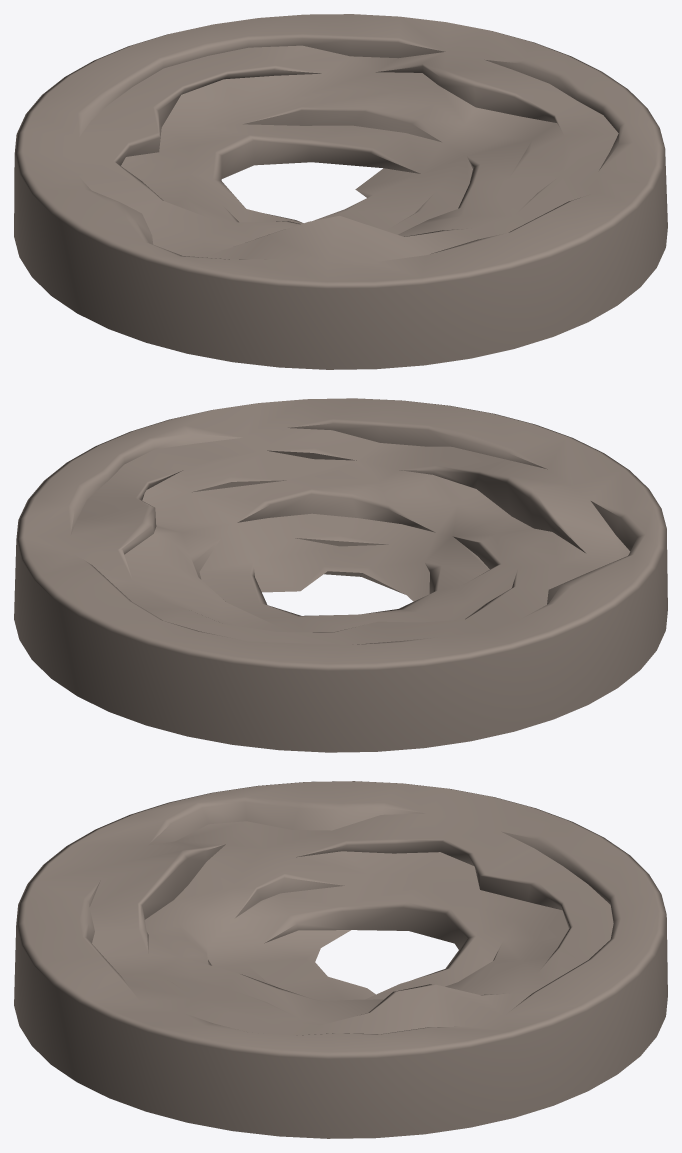
Rendered from terrain_old.fbx.
The picture shows the model from 3 angles, top to bottom: view 1: azimuth 30°, elevation 25°; view 2: azimuth 150°, elevation 25°; view 3: azimuth 270°, elevation 25°; orthographic projection.
Visible parts, largest first — view 1: pDisc1; view 2: pDisc1; view 3: pDisc1.
Part boxes in pixels (x1,y1,x2,y2): pDisc1: [14, 14, 667, 369]; pDisc1: [14, 398, 667, 752]; pDisc1: [14, 781, 667, 1138].
Bounding box in the file's own units: 30.56 × 5.05 × 30.57.
